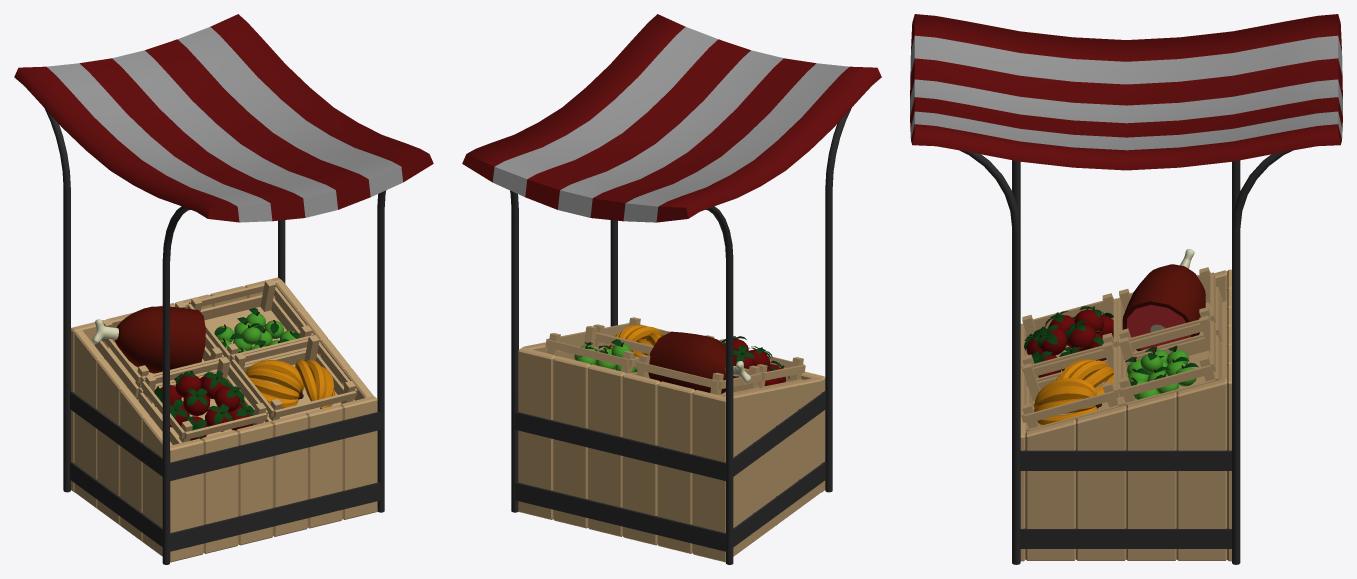
File: Street_Vendor.FBX
3 views of the same model, side by side, from view 1: azimuth 30°, elevation 25°; view 2: azimuth 150°, elevation 25°; view 3: azimuth 270°, elevation 25° (orthographic). The views are drawn at different scales.
Parts seen in each view (by area): view 1: Stall, Ham, Tomatoes, Bannana, Apple; view 2: Stall, Ham, Tomatoes, Apple, Bannana; view 3: Stall, Ham, Tomatoes, Bannana, Apple.
Boxes of the visible parts, x1,y1,x2,y2 form: Stall: (14,14,433,564); Ham: (92,306,205,373); Tomatoes: (154,371,254,440); Bannana: (245,360,335,408); Apple: (214,308,299,362); Stall: (462,14,881,564); Ham: (648,331,750,394); Tomatoes: (721,336,789,385); Apple: (574,339,646,372); Bannana: (610,324,664,357); Stall: (910,14,1342,564); Ham: (1122,249,1205,351); Tomatoes: (1024,306,1113,377); Bannana: (1033,359,1113,425); Apple: (1125,345,1198,399).
Bounding box in the file's own units: 53.76 × 88.1 × 79.98.
